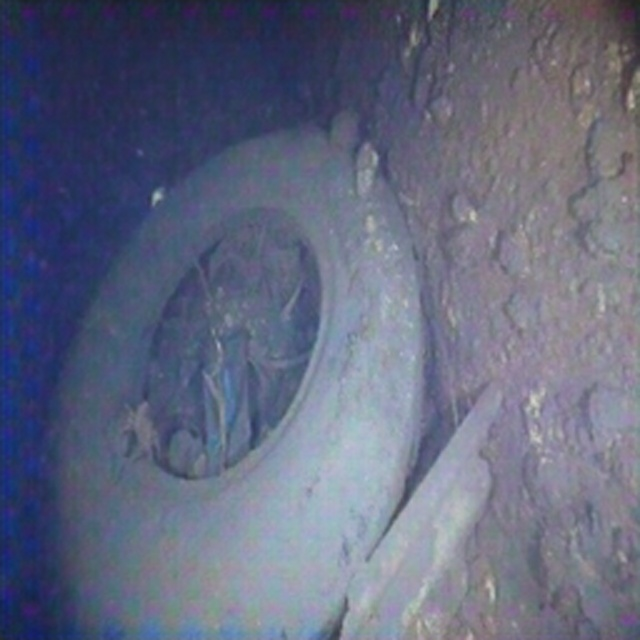mine: (42, 126, 425, 639)
